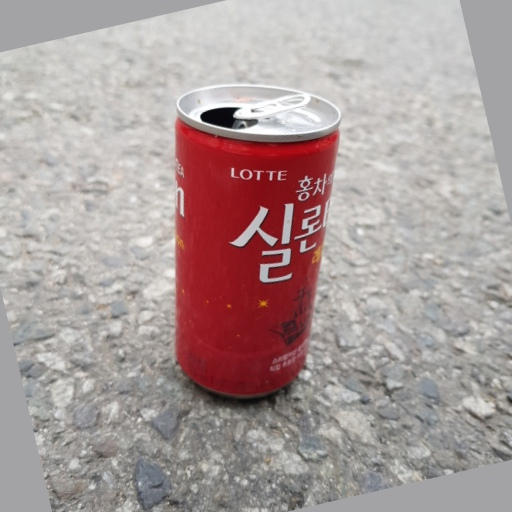Metal_0: (170, 84, 341, 403)
